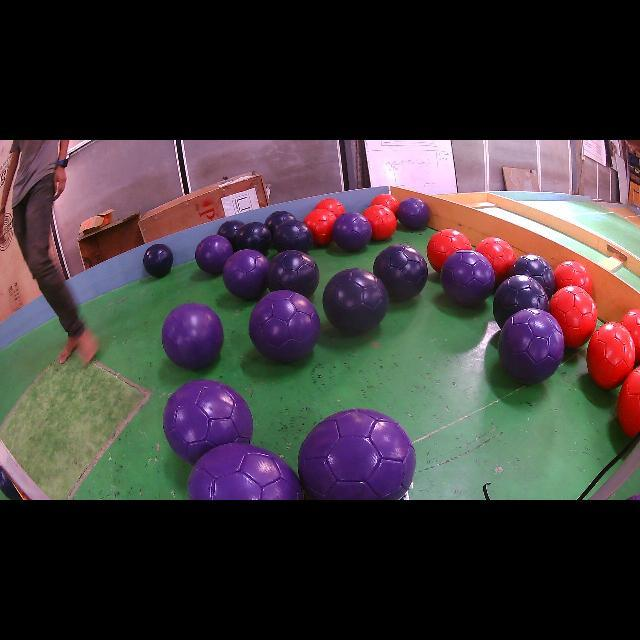B: (322, 269, 389, 334), (372, 244, 428, 301), (492, 275, 550, 328), (268, 250, 320, 298), (509, 254, 555, 299), (272, 220, 312, 252), (236, 221, 271, 255), (144, 244, 174, 278), (218, 220, 244, 252), (265, 210, 295, 234)
P: (298, 409, 415, 500), (162, 379, 252, 465), (189, 442, 302, 500), (249, 290, 320, 362), (499, 309, 565, 384), (161, 302, 224, 369), (441, 250, 495, 308), (222, 249, 269, 300), (331, 212, 372, 251), (195, 235, 232, 274), (396, 198, 430, 230)
R: (586, 322, 635, 390), (550, 285, 598, 348), (475, 238, 516, 286), (428, 229, 472, 272), (618, 366, 640, 438), (554, 260, 592, 295), (362, 205, 398, 240), (304, 209, 336, 245), (620, 309, 640, 363), (370, 194, 400, 214), (315, 199, 345, 218)
